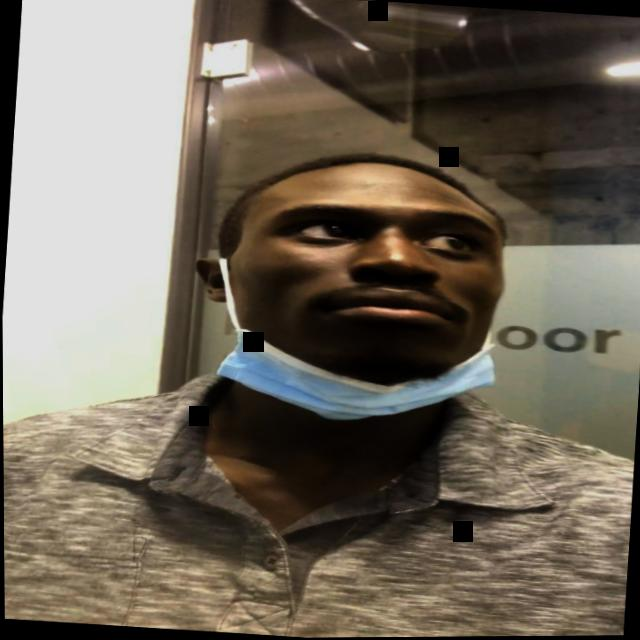NO-Mask: (212, 167, 513, 385)
